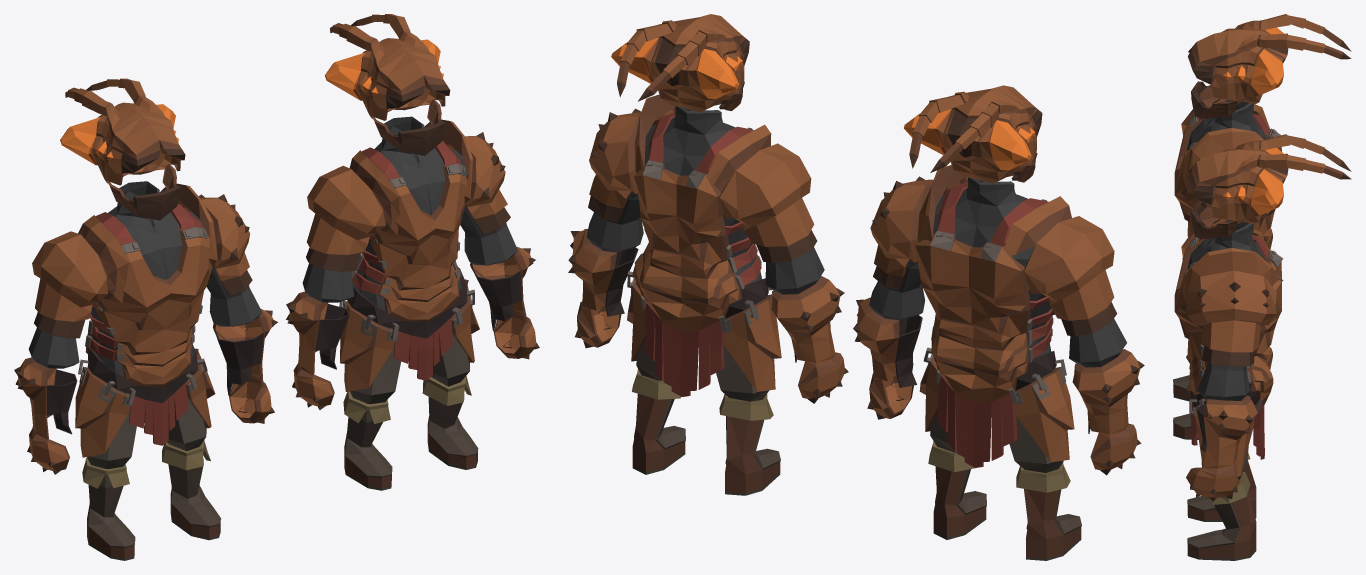
File: ARMOR_chitin.fbx
3 views of the same model, side by side, from view 1: azimuth 30°, elevation 25°; view 2: azimuth 150°, elevation 25°; view 3: azimuth 270°, elevation 25° (orthographic). The views are drawn at different scales.
Visible parts, largest first — view 1: base_05chitinarmor7export:chitin_armor_male, base_05chitinarmor7export:chitin_armor_female; view 2: base_05chitinarmor7export:chitin_armor_male, base_05chitinarmor7export:chitin_armor_female; view 3: base_05chitinarmor7export:chitin_armor_female, base_05chitinarmor7export:chitin_armor_male.
Boxes of the visible parts, left/top/right/bottom form: base_05chitinarmor7export:chitin_armor_male: left=14, top=78, right=277, bottom=560; base_05chitinarmor7export:chitin_armor_female: left=286, top=14, right=539, bottom=490; base_05chitinarmor7export:chitin_armor_male: left=853, top=85, right=1144, bottom=560; base_05chitinarmor7export:chitin_armor_female: left=568, top=14, right=848, bottom=495; base_05chitinarmor7export:chitin_armor_female: left=1174, top=134, right=1351, bottom=560; base_05chitinarmor7export:chitin_armor_male: left=1173, top=14, right=1351, bottom=439.
Bounding box in the file's own units: 1167 × 907 × 377.
